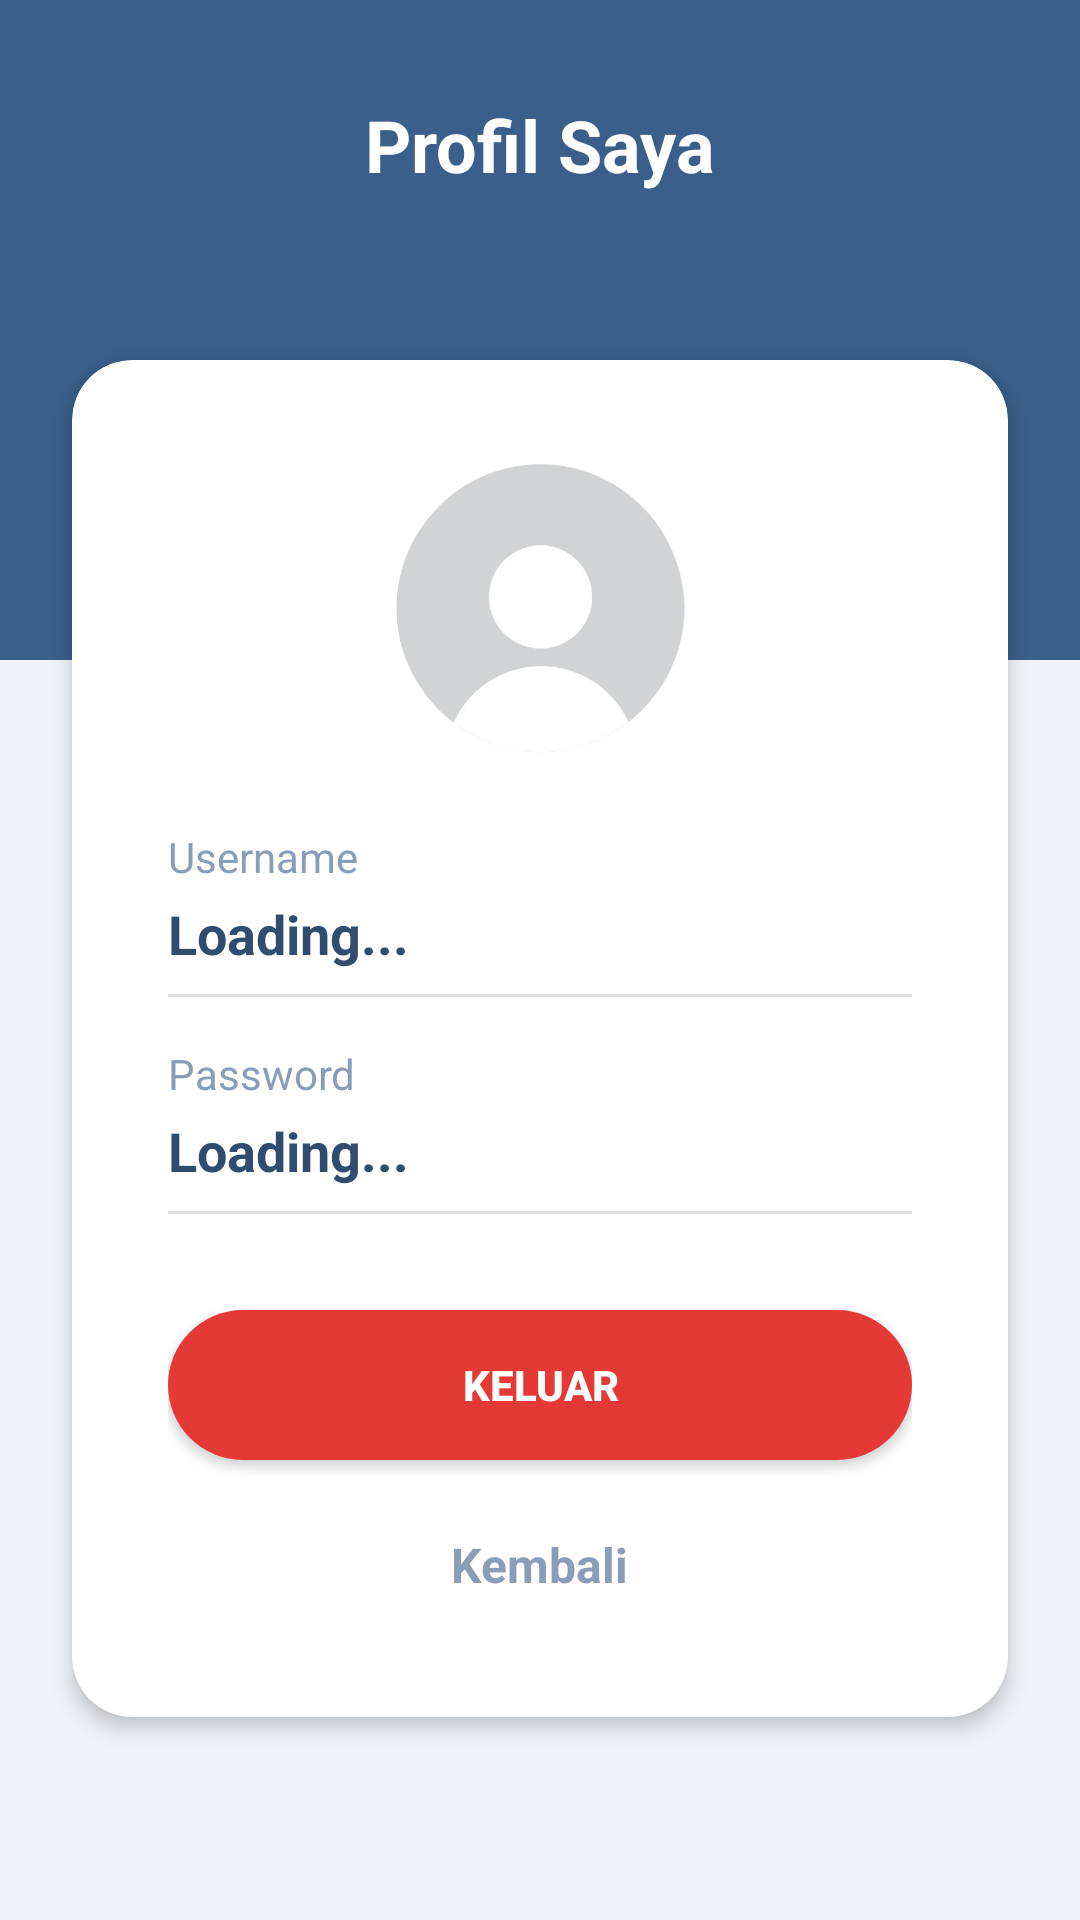

Icons on this 1080x1920 Android screen, each with its box as (x1, y1, x2, y2):
profil lg: (397, 464, 684, 722)
